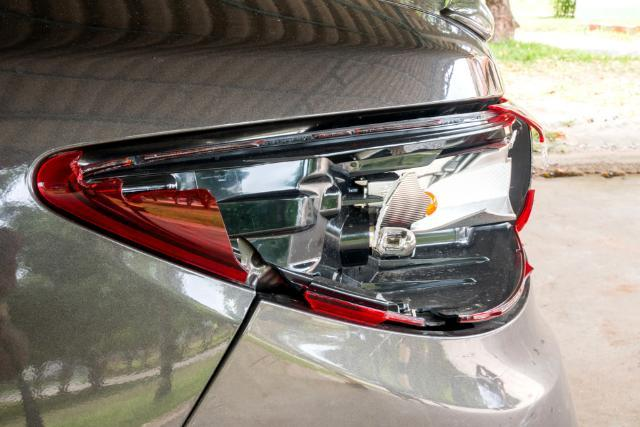Bumper: (340, 325, 553, 427)
Light: (99, 110, 525, 311)
